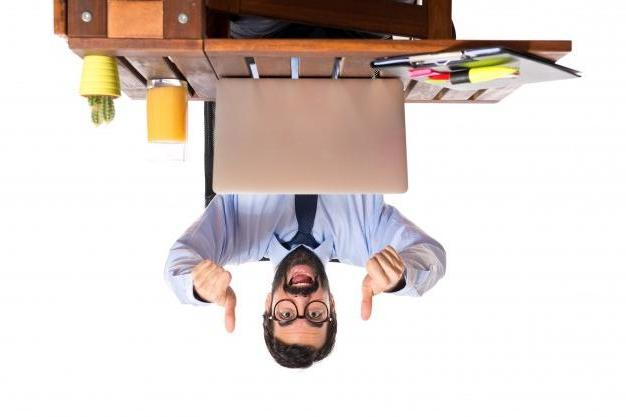thumbsdown: (361, 245, 406, 321), (192, 259, 236, 333)
